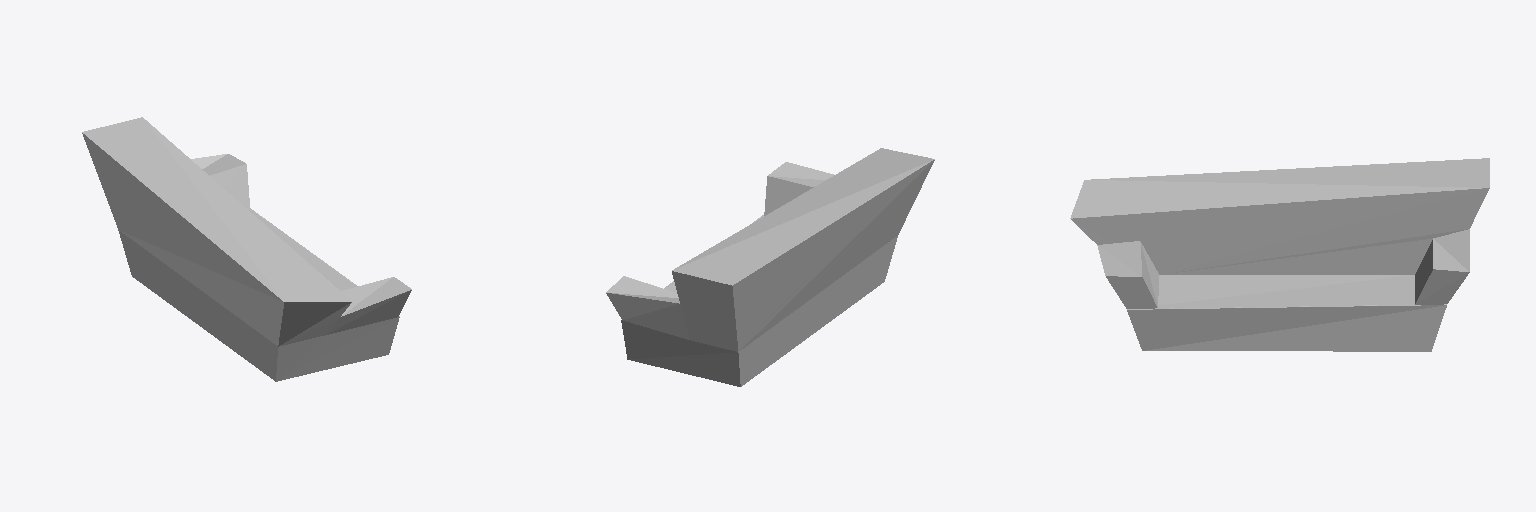
File: couch.obj
3 views of the same model, side by side, from view 1: azimuth 30°, elevation 25°; view 2: azimuth 150°, elevation 25°; view 3: azimuth 270°, elevation 25° (orthographic).
Parts seen in each view (by area): view 1: couch_LOD_2_Mesh group1; view 2: couch_LOD_2_Mesh group1; view 3: couch_LOD_2_Mesh group1.
Part boxes in pixels (x1,y1,x2,y2): couch_LOD_2_Mesh group1: (82, 117, 411, 381); couch_LOD_2_Mesh group1: (606, 148, 934, 386); couch_LOD_2_Mesh group1: (1070, 158, 1489, 351).
Size of the model in its own units: 2.01 by 1.77 by 5.25.